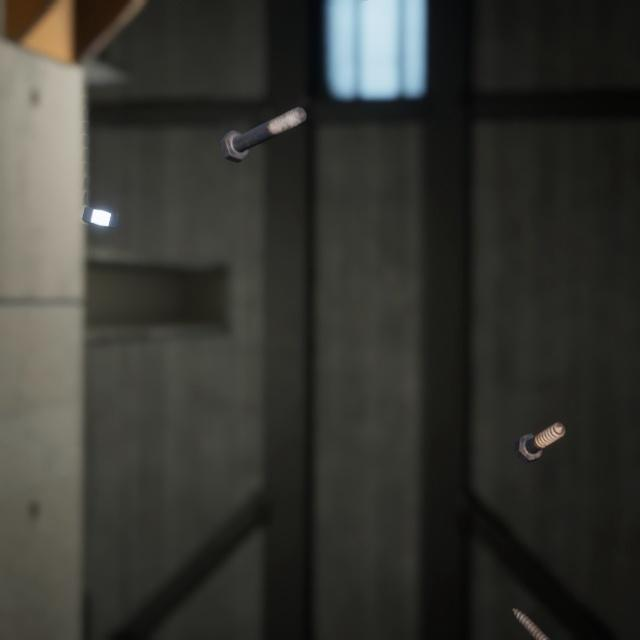bolt: (215, 89, 311, 153), (508, 580, 585, 640), (510, 397, 569, 447)
nut: (77, 187, 123, 218)
